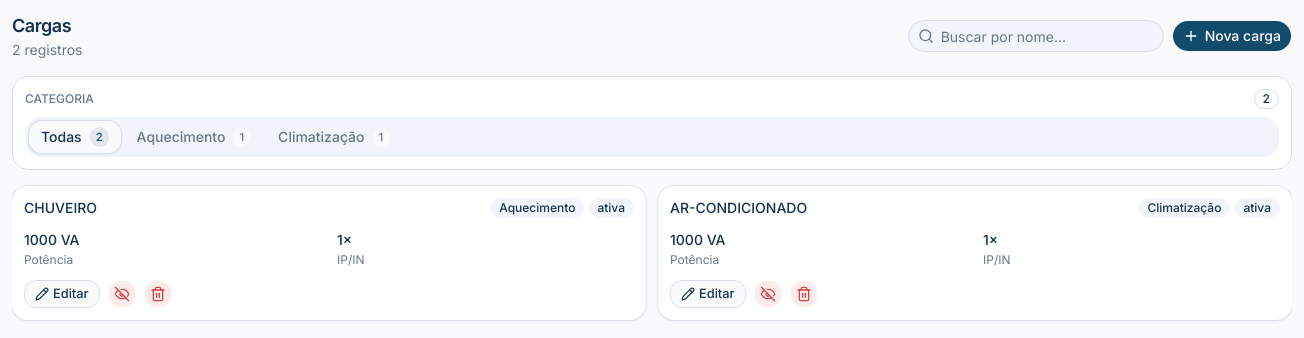
it: LoadCatalogEditor: listing › filters by search text across the three name fields
Step 1. Type "chuveiro" into the field named "Buscar carga por nome" → (1036, 36), box [908,20,1164,52]
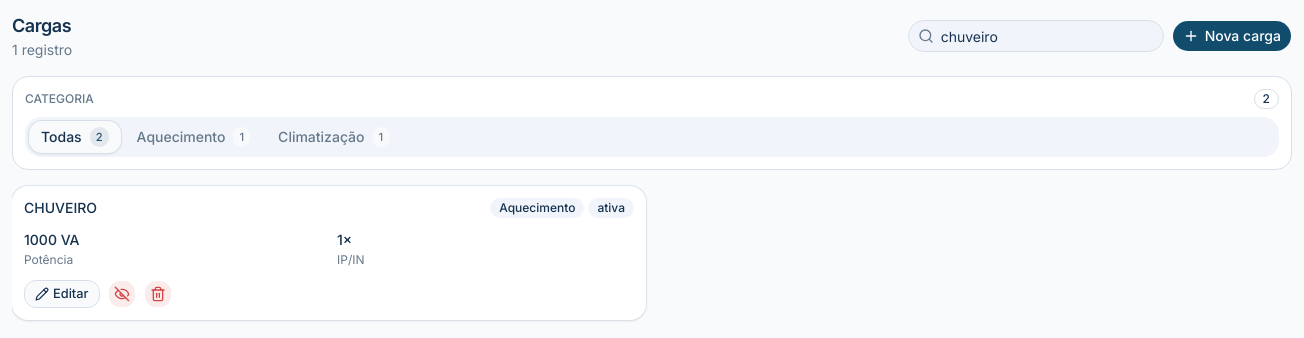
Expected: the text "Chuveiro" is shown, [24,198,97,217]
Expected: the text "Ar-condicionado" is gone
